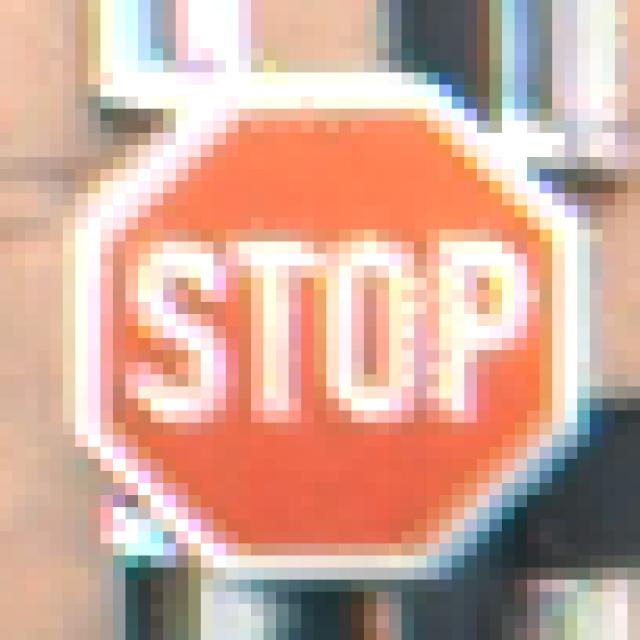STOP: (64, 62, 578, 569)
